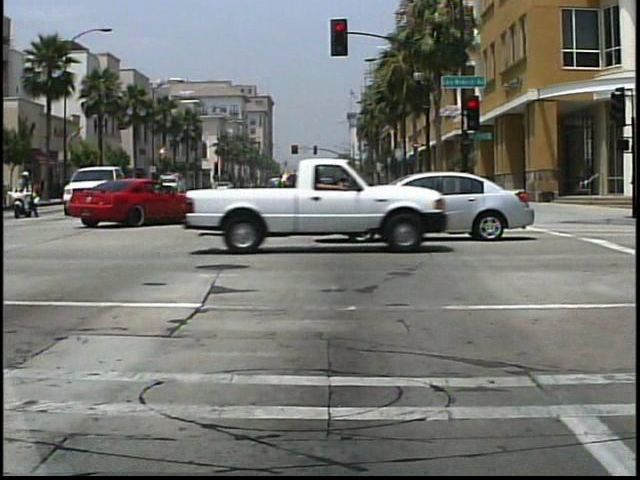person: (8, 170, 42, 219)
